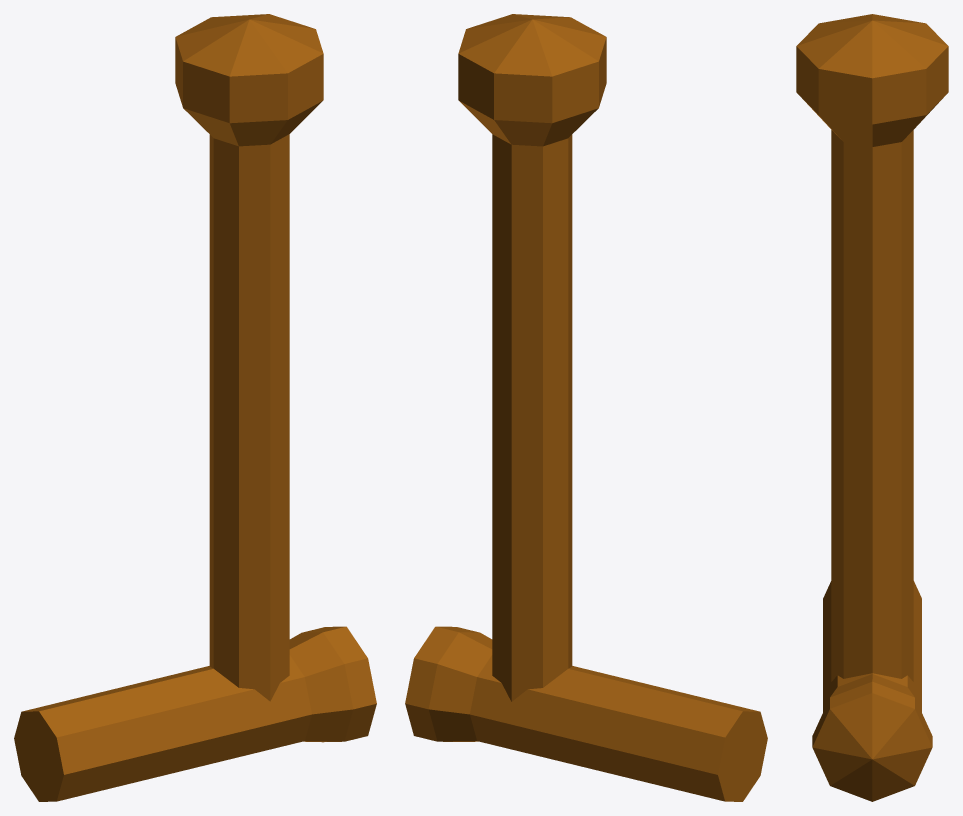
Rendered from slotmachine_sonjabi.obj.
3 renders of one model, left to right at view 1: azimuth 30°, elevation 25°; view 2: azimuth 150°, elevation 25°; view 3: azimuth 270°, elevation 25°, orthographic.
Parts seen in each view (by area): view 1: Object__11; view 2: Object__11; view 3: Object__11.
Boxes of the visible parts, left/top/right/bottom form: Object__11: left=14, top=14, right=376, bottom=801; Object__11: left=405, top=14, right=767, bottom=801; Object__11: left=796, top=14, right=948, bottom=801.
Bounding box in the file's own units: 0.3625 × 0.7721 × 0.145.
